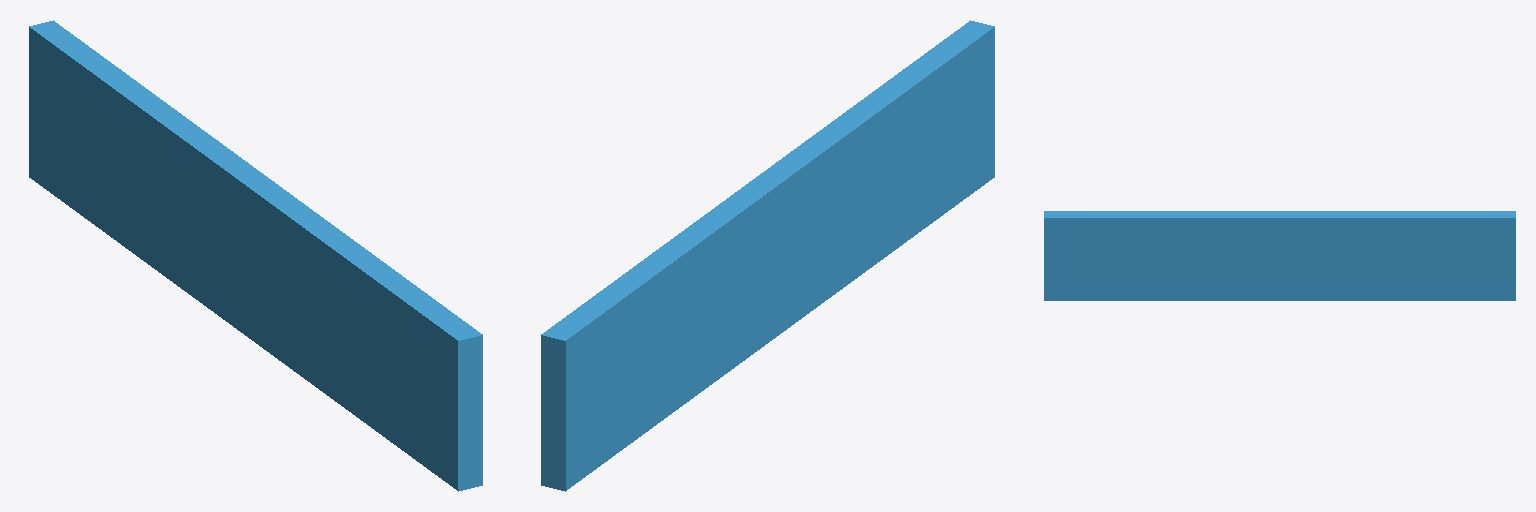
robot.urdf — box_49:
<?xml version="1.0" encoding="utf-8"?>    
    
    <robot name="box_49">
        <link name="box_49">    
            <fem>
                <origin rpy="0.0 0.0 0.0" xyz="0 0 0" />
                <density value="100" />
                <youngs value="9528"/>
                <poissons value="0.3" />
                <damping value="0.0" />
                <attachDistance value="0.01" />
                <tetmesh filename="[local-path]/sim_data/Custom/Custom_mesh/multi_boxes_10kPa/box_49.tet" />
                <scale value="0.5"/>
            </fem>
        </link>

        <link name="fix_frame">
            <visual>
                <origin xyz="-10.08198580149587 0.0 0.0"/>              
                <geometry>
                    <box size="0.005 0.15 0.02896671293040342"/>
                </geometry>
            </visual>
            <collision>
                <origin xyz="-0.08198580149587087 0.0 0.0"/>              
                <geometry>
                    <box size="0.005 0.15 0.02896671293040342"/>
                </geometry>
            </collision>
            <inertial>
                <mass value="500000"/>
                <inertia ixx="0.05" ixy="0.0" ixz="0.0" iyy="0.05" iyz="0.0" izz="0.05"/>
            </inertial>
        </link>
        
        <joint name = "attach" type = "fixed">
            <origin xyz = "0.0 0.0 0.0" rpy = "0 0 0"/>
            <parent link ="box_49"/>
            <child link = "fix_frame"/>
        </joint>  




    </robot>
    

--- Render facts (derived) ---
Views: 3 orthographic renders of the robot side by side, from view 1: azimuth 30°, elevation 25°; view 2: azimuth 150°, elevation 25°; view 3: azimuth 270°, elevation 25°.
Model box_49 with 2 links and 1 joints (1 fixed), rooted at box_49, posed every joint at zero.
Visible links, largest first — view 1: fix_frame; view 2: fix_frame; view 3: fix_frame.
Boxes of the visible links, left/top/right/bottom form: fix_frame: left=29, top=20, right=482, bottom=491; fix_frame: left=541, top=20, right=994, bottom=491; fix_frame: left=1044, top=211, right=1515, bottom=300.
Bounding box of the posed robot: 0.005 × 0.15 × 0.029 m (x, y, z).
Geometry: primitives only (box / cylinder / sphere), no mesh files.